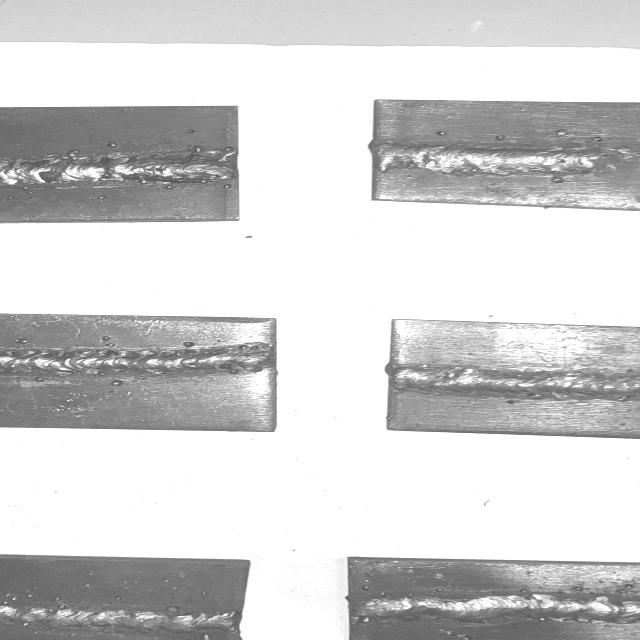Bad Weld: (372, 140, 640, 178)
Defect: (587, 142, 640, 178)
Good Weld: (0, 344, 273, 378), (350, 592, 640, 622), (394, 366, 640, 399), (0, 155, 236, 189), (0, 603, 236, 631)
